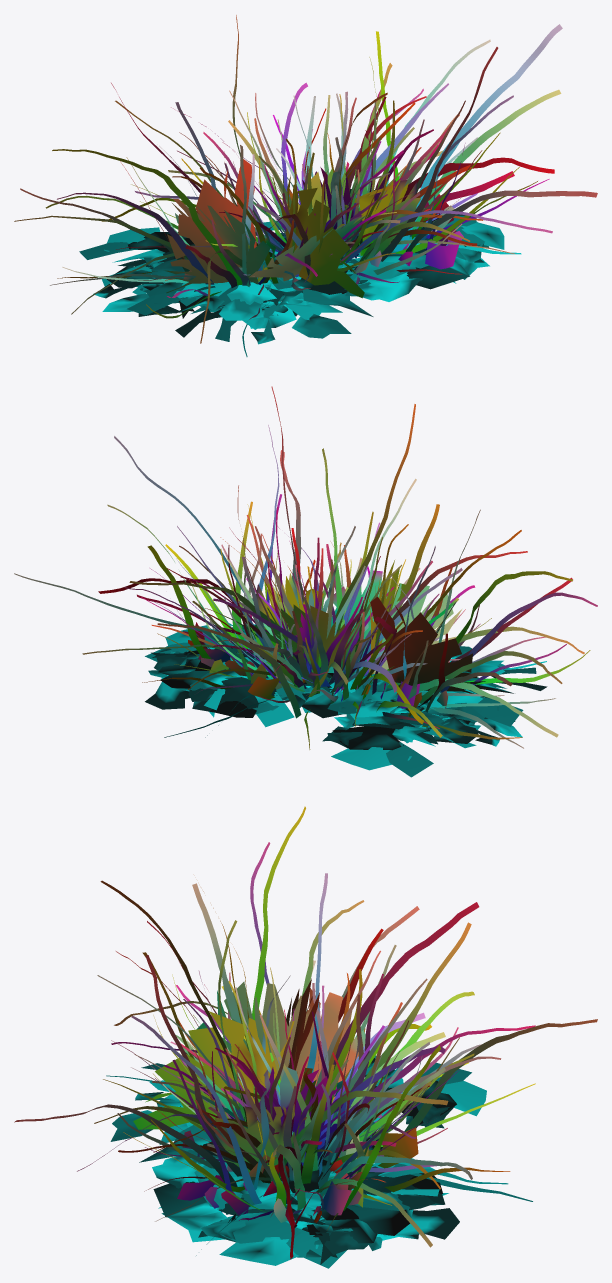
File: Wild_Grass_vczndjqja_High_vczndjqja_VarF_LOD0.fbx
3 views of the same model, one above another, from view 1: azimuth 30°, elevation 25°; view 2: azimuth 150°, elevation 25°; view 3: azimuth 270°, elevation 25° (orthographic). The views are drawn at different scales.
Parts seen in each view (by area): view 1: _44vk_VarF_LOD0; view 2: _44vk_VarF_LOD0; view 3: _44vk_VarF_LOD0.
Part boxes in pixels (x1=…): _44vk_VarF_LOD0: x1=14, y1=15, x2=597, y2=356; _44vk_VarF_LOD0: x1=14, y1=386, x2=597, y2=777; _44vk_VarF_LOD0: x1=14, y1=806, x2=597, y2=1268.
Bounding box in the file's own units: 123 × 53.25 × 99.92.
